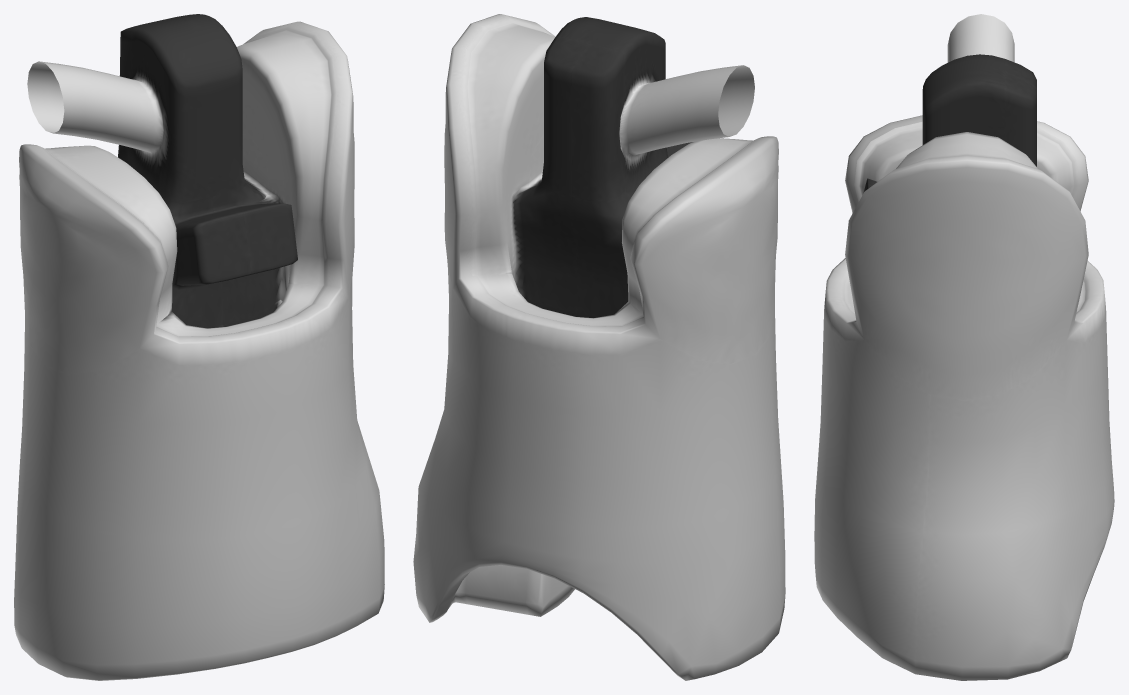
The model's file is right_leg.obj.
The picture shows the model from 3 angles, left to right: view 1: azimuth 30°, elevation 25°; view 2: azimuth 150°, elevation 25°; view 3: azimuth 270°, elevation 25°; orthographic projection. The views are drawn at different scales.
Parts seen in each view (by area): view 1: transform3 _Robot_l2:Body; view 2: transform3 _Robot_l2:Body; view 3: transform3 _Robot_l2:Body.
Part boxes in pixels (x1,y1,x2,y2): transform3 _Robot_l2:Body: [14, 14, 384, 680]; transform3 _Robot_l2:Body: [413, 14, 785, 680]; transform3 _Robot_l2:Body: [814, 14, 1114, 680].
Bounding box in the file's own units: 3.73 × 6.49 × 3.26.
1 material, 1 textured.
